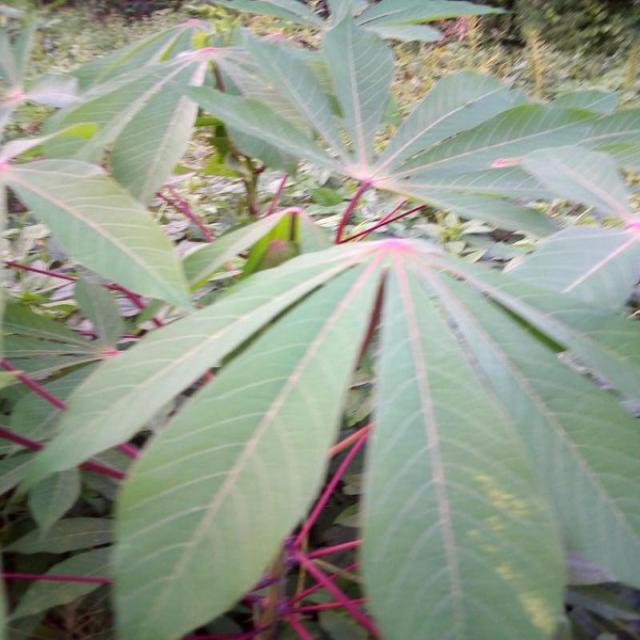cassava leaf: (4, 3, 639, 637), (108, 238, 388, 638)
